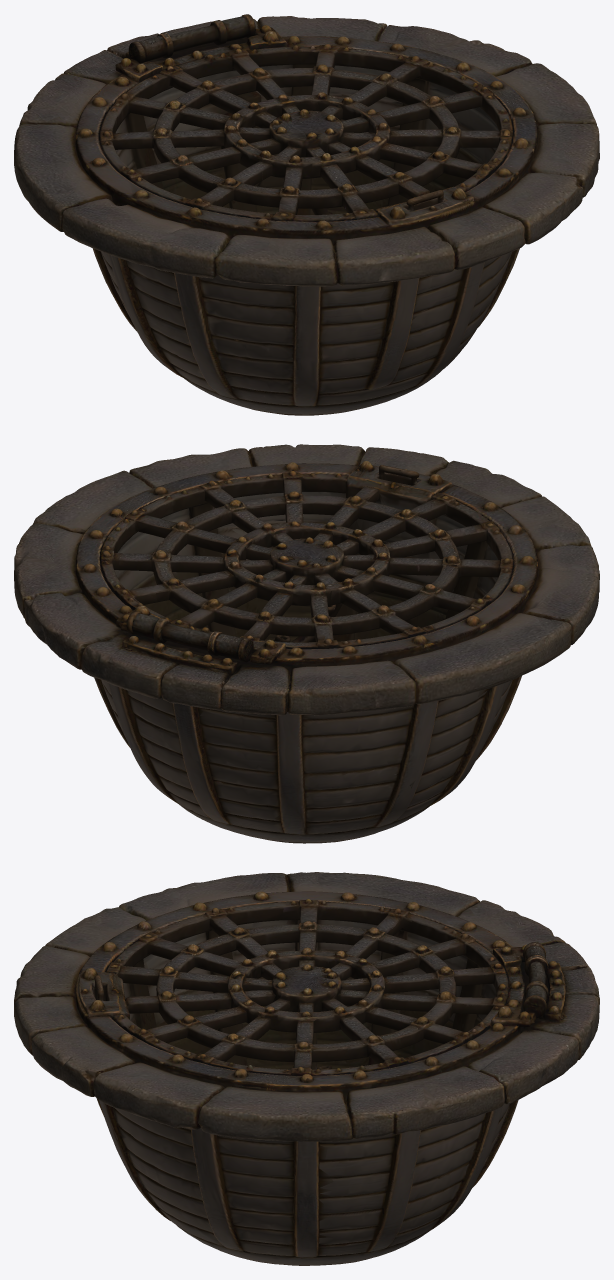
Rendered from raw_shaftgrate.glb.
3 renders of one model, top to bottom at view 1: azimuth 30°, elevation 25°; view 2: azimuth 150°, elevation 25°; view 3: azimuth 270°, elevation 25°, orthographic.
Parts seen in each view (by area): view 1: shaftgrate; view 2: shaftgrate; view 3: shaftgrate.
Part boxes in pixels (left/top/right/bottom): shaftgrate: left=14, top=14, right=599, bottom=415; shaftgrate: left=14, top=444, right=599, bottom=843; shaftgrate: left=14, top=872, right=599, bottom=1265.
Size of the model in its own units: 0.9982 by 0.5009 by 1.
Materials: 1 (1 with a texture image).
